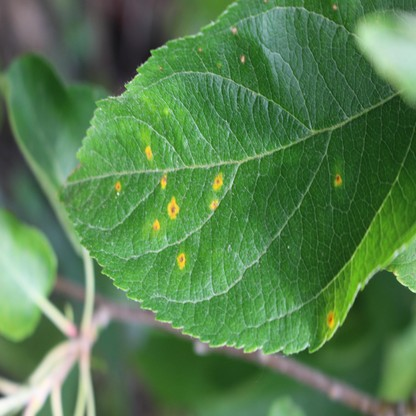rust: (168, 196, 179, 219), (212, 173, 224, 188), (177, 253, 185, 271), (333, 174, 342, 186), (209, 200, 219, 209), (327, 313, 333, 327), (161, 174, 167, 188), (145, 146, 151, 159), (153, 220, 160, 229), (115, 180, 121, 190)
